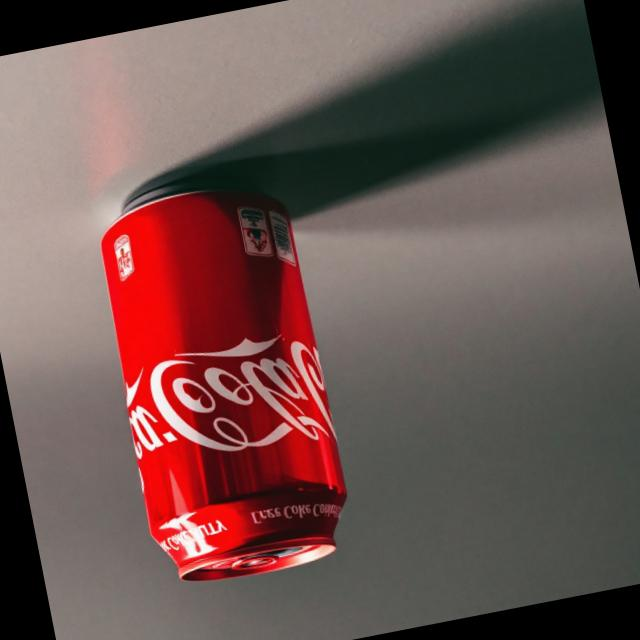cocacola: (58, 146, 396, 608)
